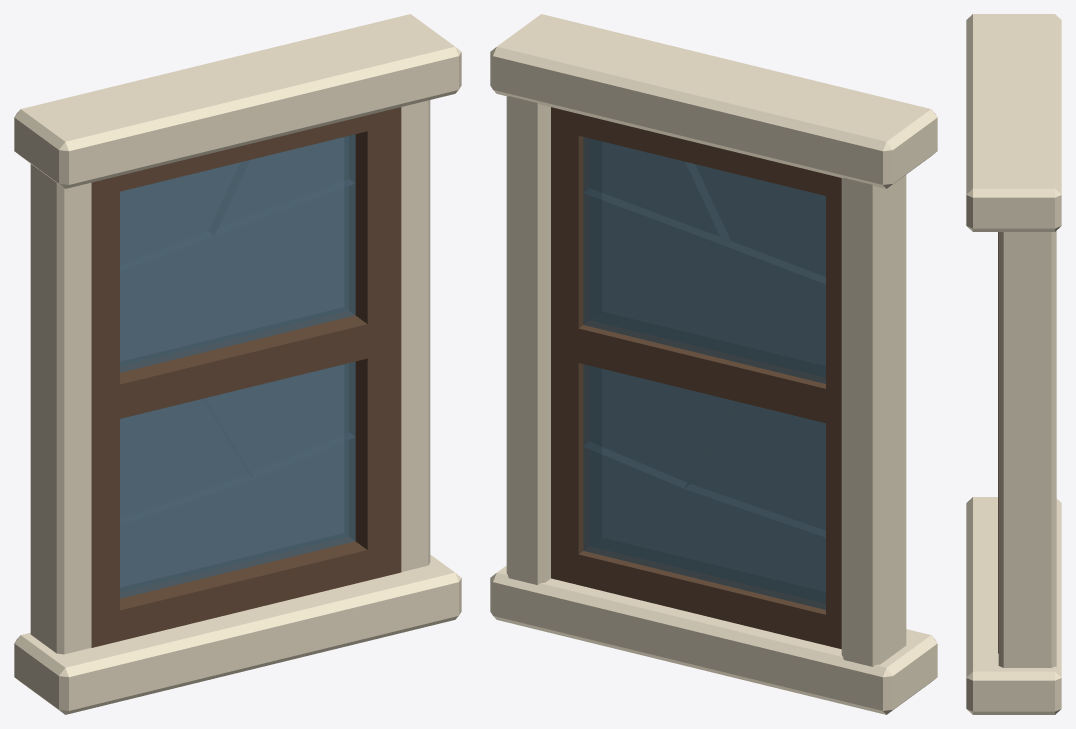
Rendered from HouseWindow.fbx.
3 views of the same model, side by side, from view 1: azimuth 30°, elevation 25°; view 2: azimuth 150°, elevation 25°; view 3: azimuth 270°, elevation 25° (orthographic). The views are drawn at different scales.
Visible parts, largest first — view 1: Concrete, Upper_Intact, Lower_Intact, Upper_01, Lower_01, Wood_07, Wood_06, Wood_03, Wood_04, Lower_02, Lower_03, Upper_02 (+4 smaller); view 2: Concrete, Upper_Intact, Lower_Intact, Upper_01, Lower_01, Lower_02, Lower_03, Wood_07, Wood_06, Upper_02, Wood_04, Wood_03 (+4 smaller); view 3: Concrete, Wood_03, Wood_04.
Boxes of the visible parts, left/top/right/bottom form: Concrete: left=14, top=14, right=461, bottom=714; Upper_Intact: left=120, top=134, right=355, bottom=372; Lower_Intact: left=120, top=362, right=355, bottom=598; Upper_01: left=120, top=184, right=355, bottom=372; Lower_01: left=120, top=437, right=355, bottom=598; Wood_07: left=120, top=311, right=367, bottom=418; Wood_06: left=120, top=537, right=367, bottom=640; Wood_03: left=349, top=320, right=401, bottom=580; Wood_04: left=349, top=107, right=401, bottom=360; Lower_02: left=120, top=398, right=254, bottom=525; Lower_03: left=206, top=362, right=355, bottom=478; Upper_02: left=120, top=160, right=249, bottom=271; Concrete: left=490, top=14, right=937, bottom=714; Upper_Intact: left=583, top=137, right=825, bottom=383; Lower_Intact: left=583, top=364, right=825, bottom=609; Upper_01: left=583, top=193, right=825, bottom=383; Lower_01: left=583, top=447, right=825, bottom=609; Lower_02: left=684, top=401, right=825, bottom=537; Lower_03: left=583, top=364, right=736, bottom=488; Wood_07: left=578, top=320, right=825, bottom=423; Wood_06: left=578, top=546, right=825, bottom=645; Upper_02: left=685, top=162, right=825, bottom=283; Wood_04: left=551, top=107, right=589, bottom=364; Wood_03: left=551, top=332, right=589, bottom=584; Concrete: left=966, top=14, right=1061, bottom=714; Wood_03: left=998, top=421, right=998, bottom=653; Wood_04: left=998, top=232, right=998, bottom=421.
Bounding box in the file's own units: 125 × 171 × 28.
